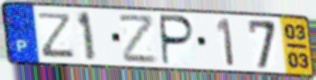1: (74, 10, 99, 63), (215, 17, 237, 69)
7: (247, 18, 278, 70)
P: (159, 13, 197, 67)
Z: (117, 14, 159, 65), (38, 11, 77, 59)
